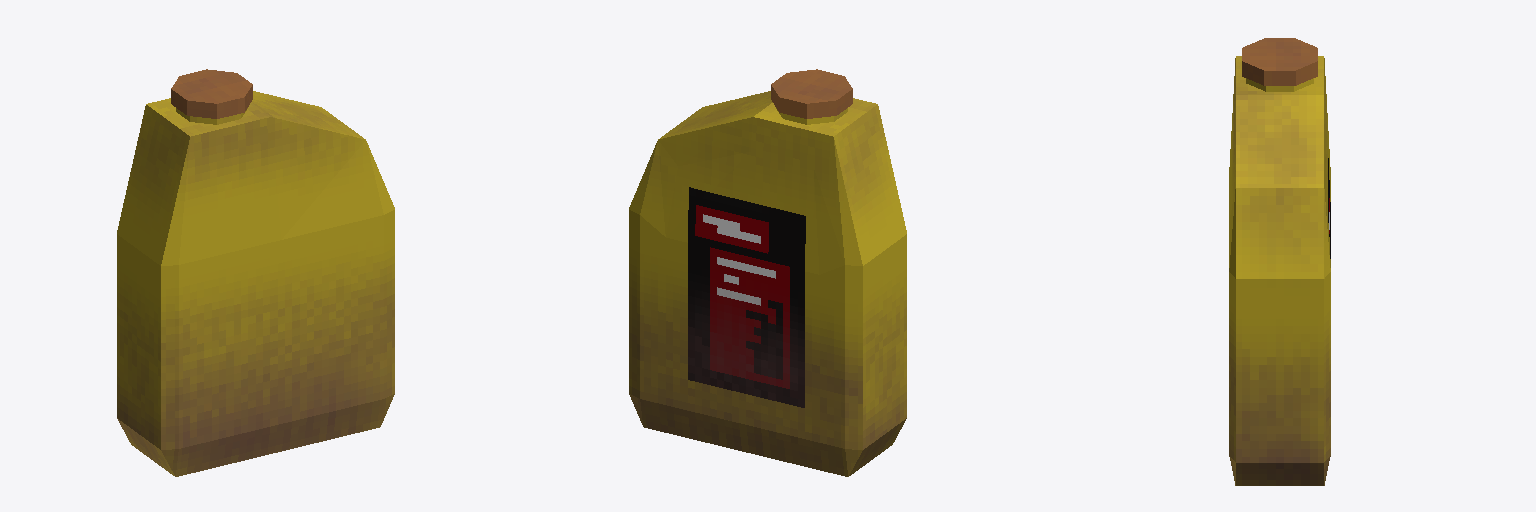
3 renders of one model, left to right at view 1: azimuth 30°, elevation 25°; view 2: azimuth 150°, elevation 25°; view 3: azimuth 270°, elevation 25°, orthographic.
Visible parts, largest first — view 1: beveled_cuboid, cylinder; view 2: beveled_cuboid, cylinder; view 3: beveled_cuboid, cylinder.
Part boxes in pixels (x1,y1,x2,y2): beveled_cuboid: (117, 91, 394, 476); cylinder: (171, 69, 252, 124); beveled_cuboid: (629, 91, 906, 476); cylinder: (771, 69, 852, 124); beveled_cuboid: (1229, 56, 1330, 485); cylinder: (1242, 38, 1317, 91).
Bounding box in the file's own units: 1 × 1.47 × 0.375.
1 materials, 1 textured.